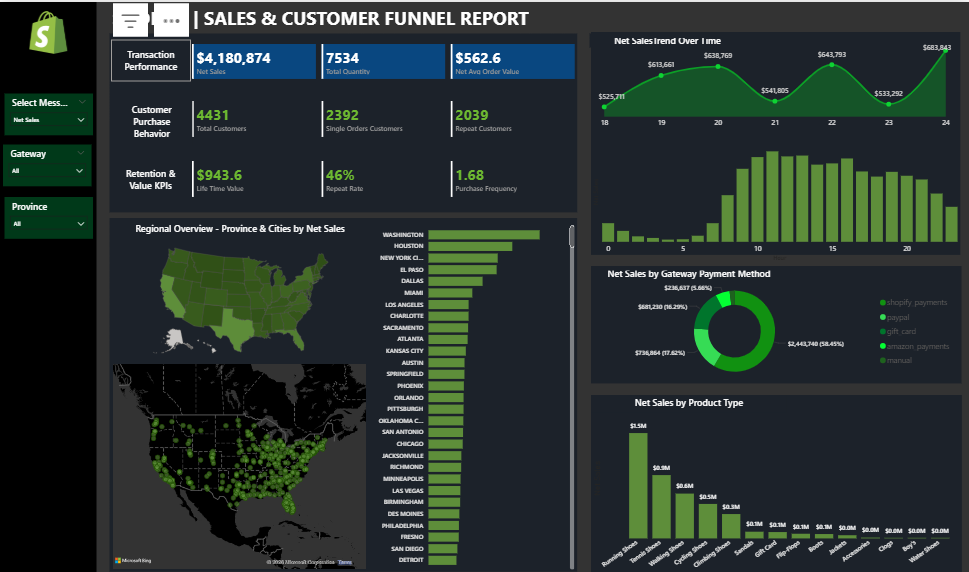

The dashboard page shown, as its layout file describes it:
{"tool":"powerbi","page":{"name":"Shopify Anylsis","canvas":[1700,1000],"ordinal":0},"visuals":[{"type":"shape","box":[193.2,379.5,820.5,620.5],"z":0},{"type":"shape","box":[0,0,169.6,1000],"z":1000},{"type":"textbox","box":[193.1,0,751.7,55.2],"z":2000},{"type":"shape","box":[193.1,55.2,820.7,313.8],"z":3000},{"type":"cardVisual","fields":{"Data":["shopify_sales.Net Sales","shopify_sales.Total Quantity","shopify_sales.Net Avg Order Value"]},"box":[336.4,72.7,677.3,61.4],"z":4000},{"type":"card","fields":{"Values":["shopify_sales.Transaction Performance"]},"box":[193.9,66.7,139.4,72.7],"z":5000},{"type":"cardVisual","fields":{"Data":["shopify_sales.Total Customers","shopify_sales.Single Orders Customers","shopify_sales.Repeat Customers"]},"box":[336.4,174.3,678.8,63.6],"z":6000},{"type":"card","fields":{"Values":["shopify_sales.Customer Purchase Behavior"]},"box":[193.9,160.6,142.4,90.9],"z":7000},{"type":"cardVisual","fields":{"Data":["shopify_sales.Life Time Value","shopify_sales.Repeat Rate","shopify_sales.Purchase Frequency"]},"box":[336.4,278.8,678.8,63.6],"z":8000},{"type":"card","fields":{"Values":["shopify_sales.Retention & Value KPIs"]},"box":[202.3,265.9,122.7,90.9],"z":9000},{"type":"slicer","fields":{"Values":["Select Messure.Select Messure"]},"box":[7.1,160.7,155.4,73.2],"z":10000},{"type":"shapeMap","fields":{"Value":["shopify_sales.Net Sales"],"Category":["shopify_sales.Billing Address Province"]},"box":[193.5,415.2,454.3,215.2],"z":11000},{"type":"map","fields":{"Category":["shopify_sales.Location"]},"box":[193.2,629.5,454.5,370.5],"z":12000},{"type":"barChart","fields":{"Y":["shopify_sales.Net Sales"],"Category":["shopify_sales.CITY"]},"box":[647.8,378.3,365.2,621.7],"z":13000},{"type":"card","fields":{"Values":["shopify_sales.Map Title"]},"box":[195.7,380.4,452.2,34.8],"z":14000},{"type":"shape","box":[1037.5,53.6,648.2,391.1],"z":15000},{"type":"areaChart","fields":{"Y":["shopify_sales.Net Sales"],"Category":["shopify_sales.Invoice Date.Variation.Date Hierarchy.Day"]},"box":[1050,65.6,625,159.4],"z":16000},{"type":"columnChart","fields":{"Y":["shopify_sales.Net Sales"],"Category":["shopify_sales.Hour"]},"box":[1039.3,235.7,646.4,217.9],"z":17000},{"type":"card","fields":{"Values":["shopify_sales.Trend Title"]},"box":[1034.1,56.1,273.2,24.4],"z":18000},{"type":"shape","box":[1037.5,462.5,650,206.2],"z":19000},{"type":"donutChart","fields":{"Y":["shopify_sales.Net Sales"],"Category":["shopify_sales.Gateway"]},"box":[1034.4,487.5,646.9,181.2],"z":20000},{"type":"card","fields":{"Values":["shopify_sales.Gateway Title"]},"box":[1036.9,463.1,343.1,24.6],"z":21000},{"type":"shape","box":[1036.9,689.2,650.8,310.8],"z":22000},{"type":"columnChart","fields":{"Y":["shopify_sales.Net Sales"],"Category":["shopify_sales.Product Type"]},"box":[1039,722,648.8,278],"z":23000},{"type":"card","fields":{"Values":["shopify_sales.Product Title"]},"box":[1037.5,689.3,342.9,30.4],"z":24000},{"type":"image","box":[41.5,17.1,85.4,75.6],"z":25000},{"type":"slicer","fields":{"Values":["shopify_sales.Gateway"]},"box":[5.4,250.9,155.4,73.2],"z":26000},{"type":"slicer","fields":{"Values":["shopify_sales.Billing Address Province"]},"box":[7.1,341.1,155.4,73.2],"z":27000}]}

Visuals, with their boxes on the page's 1700x1000 design canvas (x1, y1, x2, y2). These are canvas units, not pixel positions in the 969x572 screenshot, which may show the page scaled, cropped or inside an application window:
shape: rect(193, 380, 1014, 1000)
shape: rect(0, 0, 170, 1000)
textbox: rect(193, 0, 945, 55)
shape: rect(193, 55, 1014, 369)
cardVisual - shopify_sales.Net Sales x shopify_sales.Total Quantity: rect(336, 73, 1014, 134)
card - shopify_sales.Transaction Performance: rect(194, 67, 333, 139)
cardVisual - shopify_sales.Total Customers x shopify_sales.Single Orders Customers: rect(336, 174, 1015, 238)
card - shopify_sales.Customer Purchase Behavior: rect(194, 161, 336, 252)
cardVisual - shopify_sales.Life Time Value x shopify_sales.Repeat Rate: rect(336, 279, 1015, 342)
card - shopify_sales.Retention & Value KPIs: rect(202, 266, 325, 357)
slicer - Select Messure.Select Messure: rect(7, 161, 162, 234)
shapeMap - shopify_sales.Net Sales x shopify_sales.Billing Address Province: rect(194, 415, 648, 630)
map - shopify_sales.Location: rect(193, 630, 648, 1000)
barChart - shopify_sales.Net Sales x shopify_sales.CITY: rect(648, 378, 1013, 1000)
card - shopify_sales.Map Title: rect(196, 380, 648, 415)
shape: rect(1038, 54, 1686, 445)
areaChart - shopify_sales.Net Sales x shopify_sales.Invoice Date.Variation.Date Hierarchy.Day: rect(1050, 66, 1675, 225)
columnChart - shopify_sales.Net Sales x shopify_sales.Hour: rect(1039, 236, 1686, 454)
card - shopify_sales.Trend Title: rect(1034, 56, 1307, 80)
shape: rect(1038, 462, 1688, 669)
donutChart - shopify_sales.Net Sales x shopify_sales.Gateway: rect(1034, 488, 1681, 669)
card - shopify_sales.Gateway Title: rect(1037, 463, 1380, 488)
shape: rect(1037, 689, 1688, 1000)
columnChart - shopify_sales.Net Sales x shopify_sales.Product Type: rect(1039, 722, 1688, 1000)
card - shopify_sales.Product Title: rect(1038, 689, 1380, 720)
image: rect(42, 17, 127, 93)
slicer - shopify_sales.Gateway: rect(5, 251, 161, 324)
slicer - shopify_sales.Billing Address Province: rect(7, 341, 162, 414)
